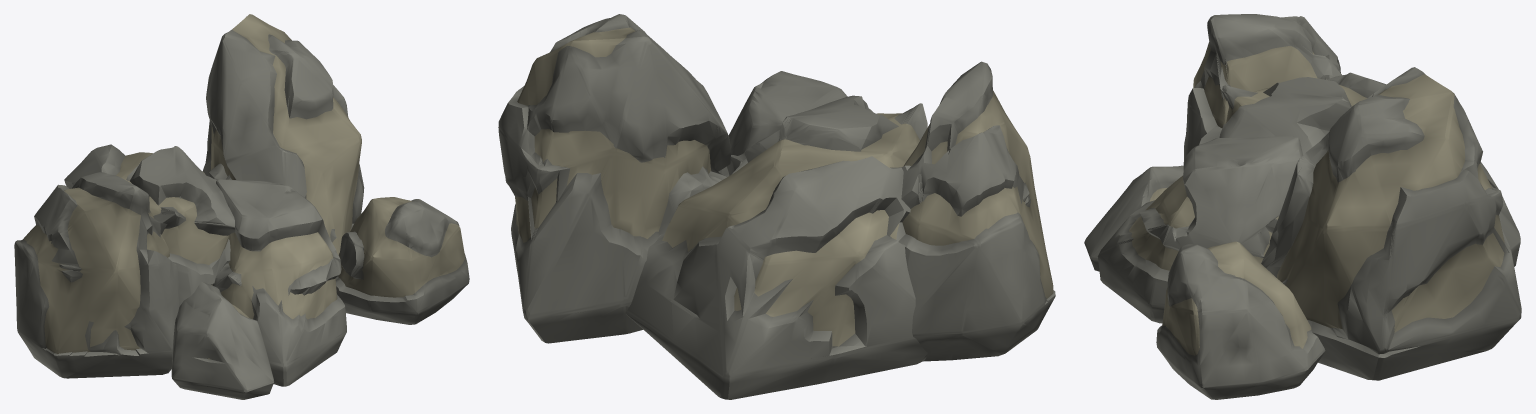
Rendered from corealm_ore_stone.glb.
The picture shows the model from 3 angles, left to right: view 1: azimuth 30°, elevation 25°; view 2: azimuth 150°, elevation 25°; view 3: azimuth 270°, elevation 25°; orthographic projection. The views are drawn at different scales.
Parts seen in each view (by area): view 1: corealm_ore_stone; view 2: corealm_ore_stone; view 3: corealm_ore_stone.
Part boxes in pixels (x1,y1,x2,y2): corealm_ore_stone: (14, 14, 469, 399); corealm_ore_stone: (498, 14, 1055, 399); corealm_ore_stone: (1084, 14, 1521, 399).
Size of the model in its own units: 1.5 by 0.82 by 1.26.
